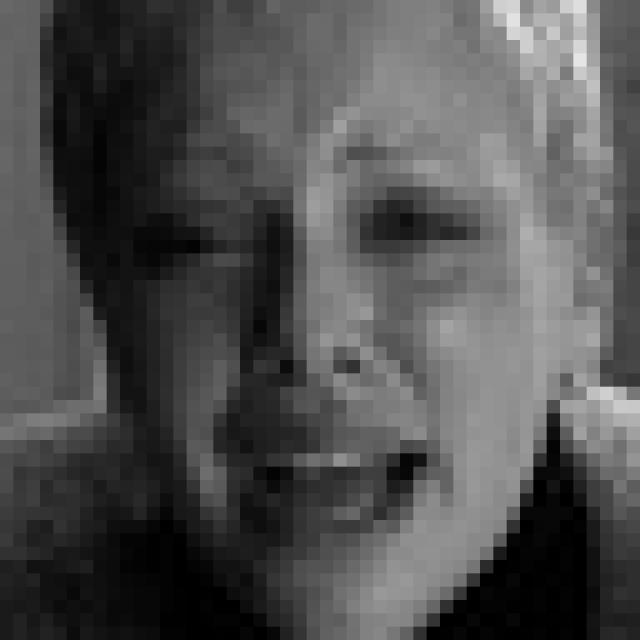sad: (148, 126, 515, 563)
